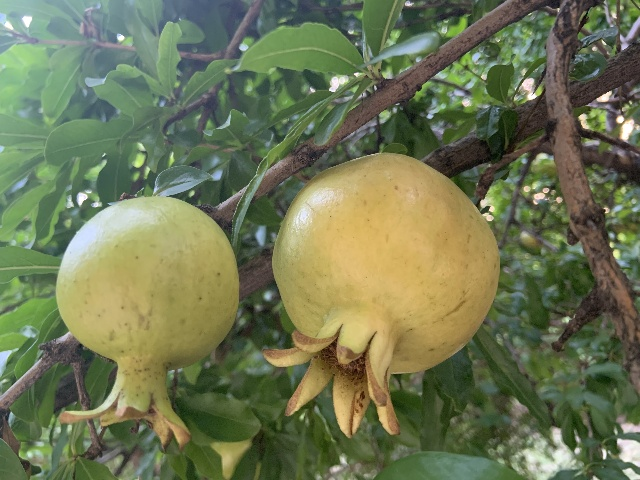mid-growth: (260, 152, 500, 442), (54, 197, 240, 450)
